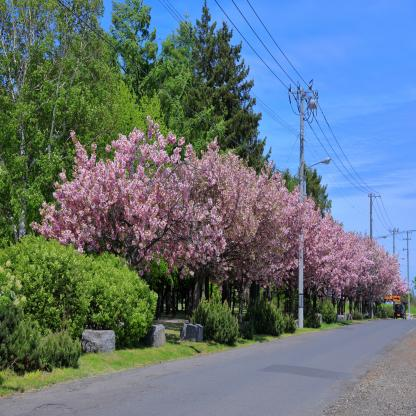YaeSakura: (29, 114, 196, 281), (186, 139, 226, 280), (211, 140, 240, 290), (248, 162, 270, 293), (262, 172, 280, 294), (238, 152, 251, 298), (275, 172, 287, 296), (290, 184, 303, 290), (302, 192, 315, 296), (373, 247, 399, 298), (362, 232, 379, 298), (312, 200, 322, 300), (352, 231, 366, 300), (284, 177, 292, 297), (321, 209, 330, 298), (340, 222, 349, 303), (345, 233, 356, 297), (329, 212, 337, 294), (335, 217, 342, 302), (395, 272, 410, 302)
